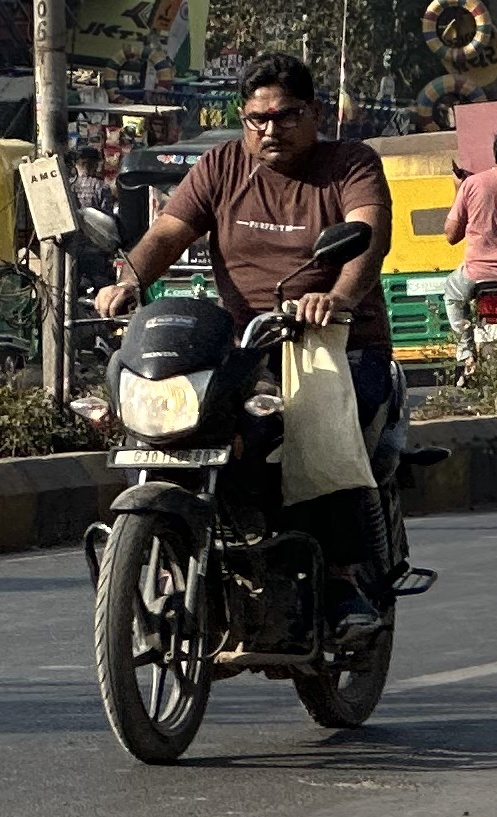BikeWithRider: (78, 42, 456, 767)
NoHelmet: (235, 48, 327, 172)
